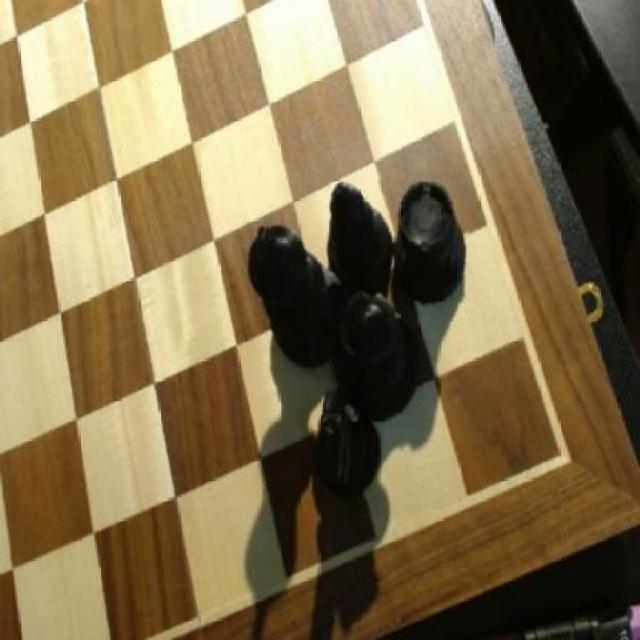bishop: (323, 180, 395, 287)
black-bishop: (245, 222, 342, 366)
black-king: (309, 383, 386, 499)
black-pawn: (338, 288, 427, 419)
black-queen: (394, 172, 472, 308)
